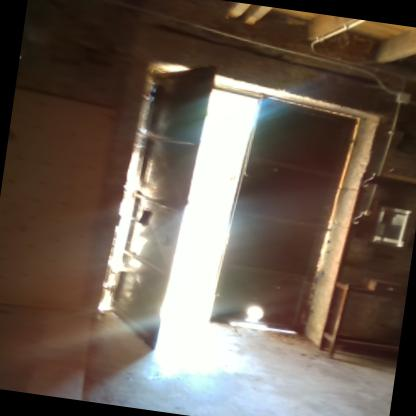semi: (146, 63, 393, 374)
